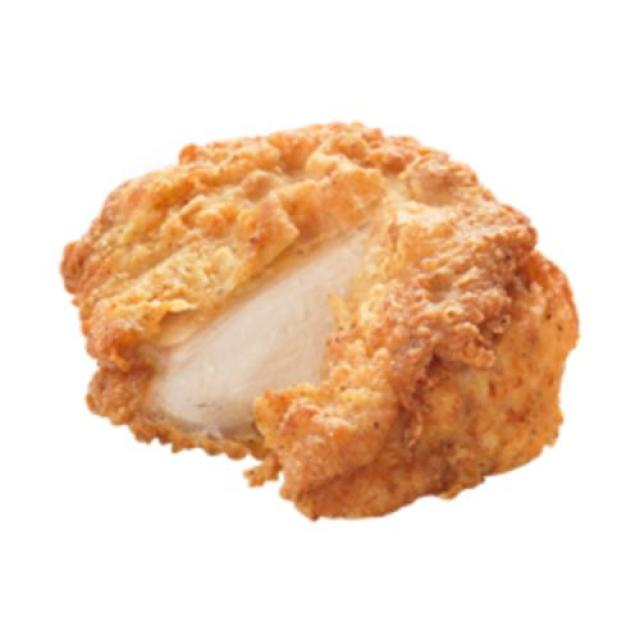Frango: (39, 95, 588, 535)
